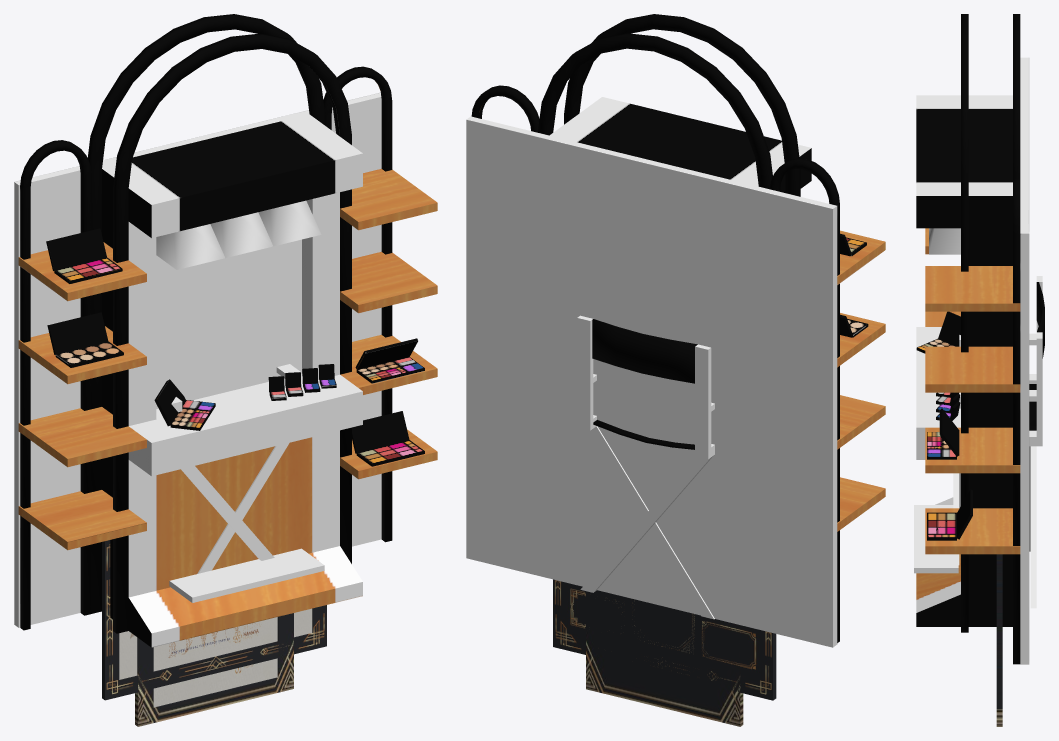
File: PropertyBoothBWS.fbx
The picture shows the model from 3 angles, left to right: view 1: azimuth 30°, elevation 25°; view 2: azimuth 150°, elevation 25°; view 3: azimuth 270°, elevation 25°; orthographic projection. The views are drawn at different scales.
Visible parts, largest first — view 1: Table MUA, Frame_Landscape, Frame_Portrait, Chair_MUA; view 2: Table MUA, Frame_Portrait, Chair_MUA, Frame_Landscape; view 3: Table MUA, Chair_MUA, Frame_Landscape.
Part boxes in pixels (box(x1,y1,x2,y2)): Table MUA: box(14, 14, 437, 647); Frame_Landscape: box(102, 540, 326, 700); Frame_Portrait: box(135, 613, 293, 726); Chair_MUA: box(169, 364, 324, 602); Table MUA: box(466, 14, 885, 647); Frame_Portrait: box(586, 590, 743, 726); Chair_MUA: box(577, 315, 714, 619); Frame_Landscape: box(553, 579, 776, 700); Table MUA: box(916, 14, 1029, 664); Chair_MUA: box(914, 276, 1044, 608); Frame_Landscape: box(996, 554, 1002, 708).
Bounding box in the file's own units: 140 × 246 × 44.02.
